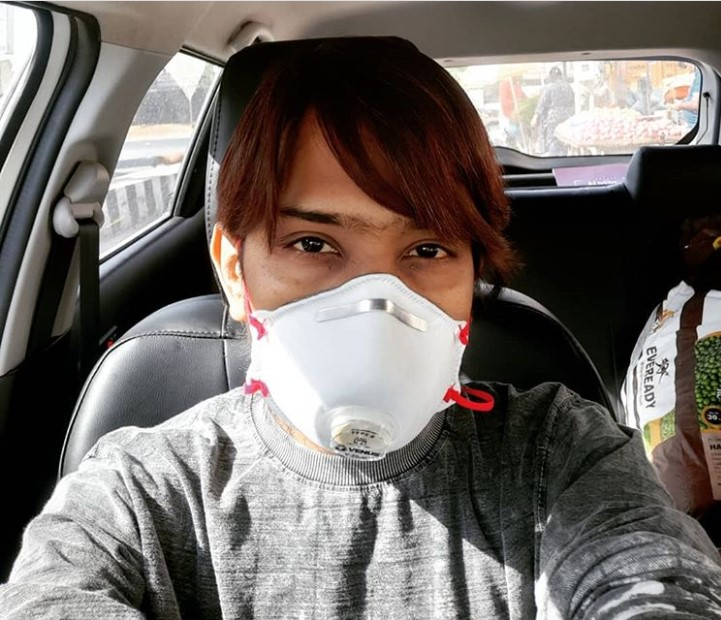face_with_mask: (205, 36, 488, 465)
